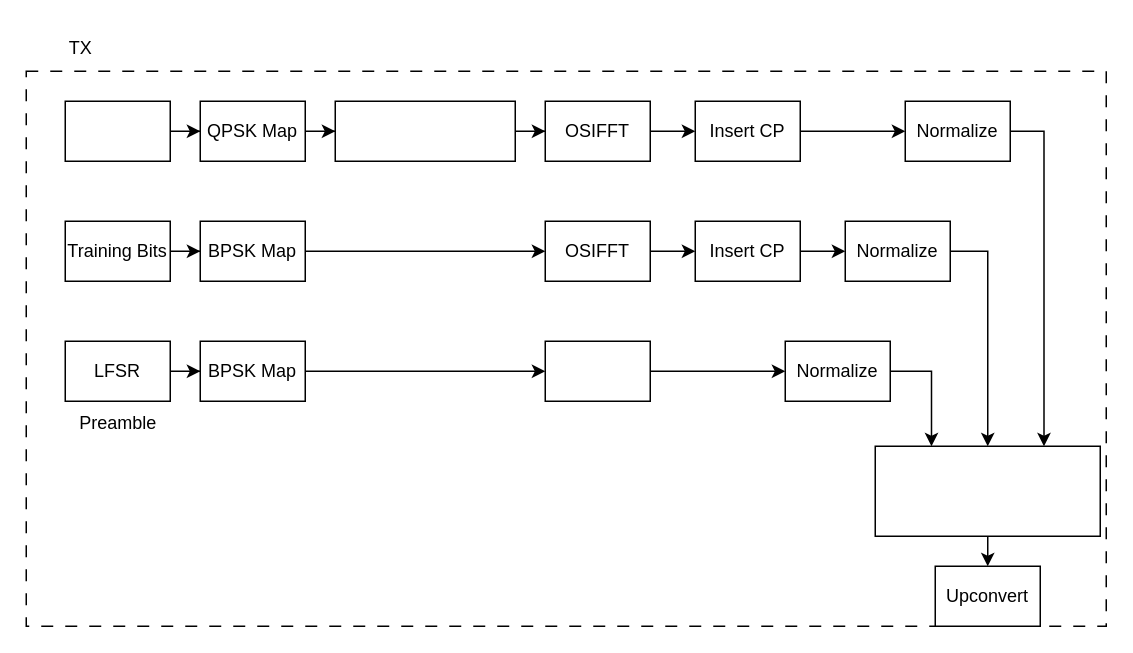
This 1133x653 diagram has some shape labels left out. The shapes that lost their labels are listed below. From the top down, each one's box as (x1, y1, x2, y2) in pixels, then its label:
(64, 100, 170, 161): Source Data
(334, 100, 515, 161): Reshape to N_Carr x N_OFDM
(544, 340, 650, 401): Upsampling
(874, 445, 1100, 536): TX Signal [Preamble, Training, Data]
